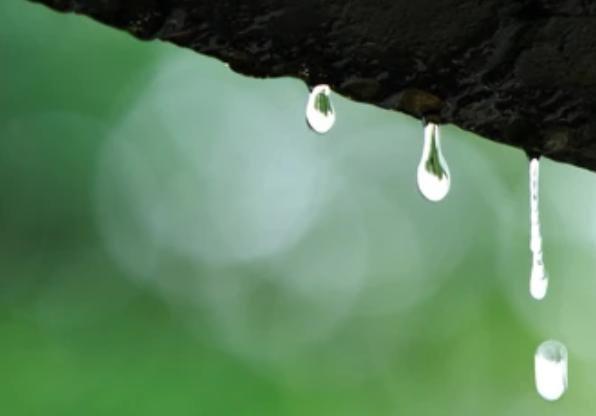water drop: (522, 151, 549, 303), (416, 120, 452, 201), (532, 340, 569, 398), (304, 80, 336, 135)
